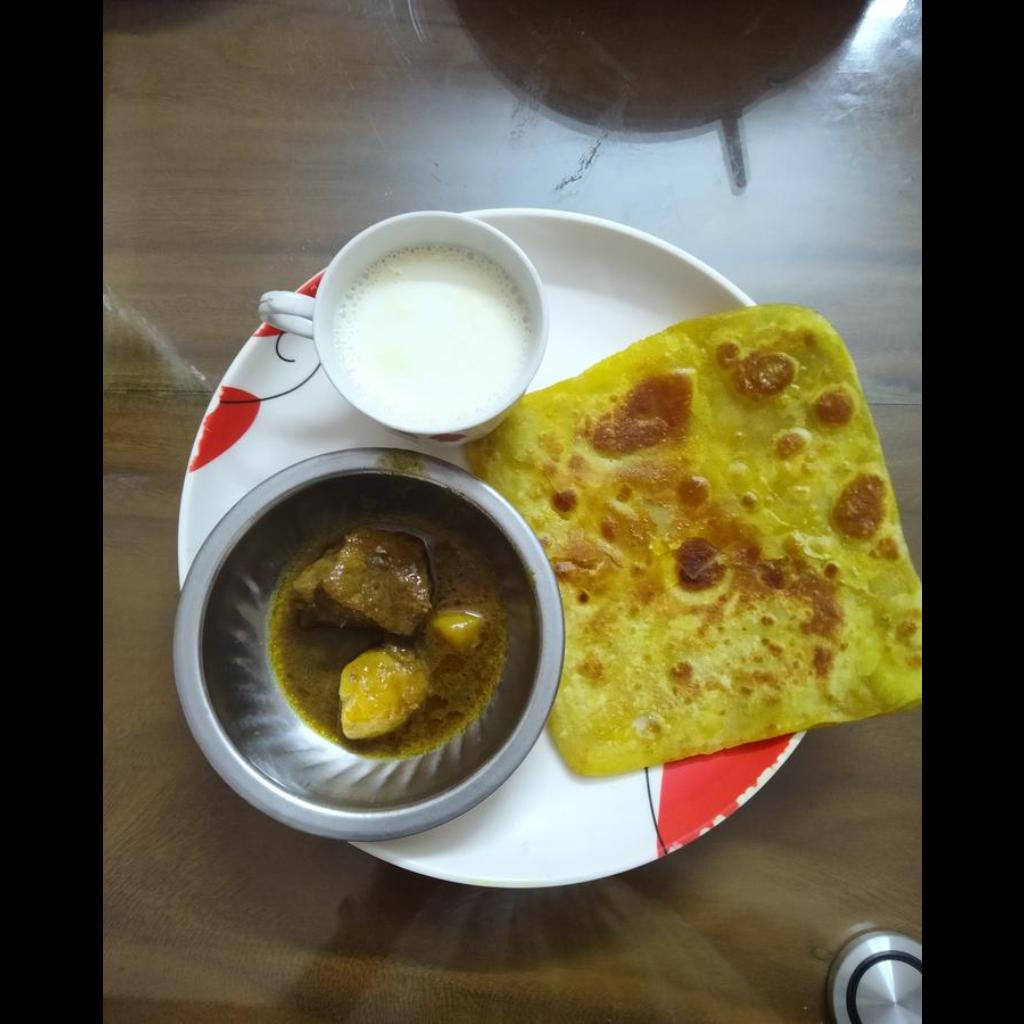beef: (293, 531, 434, 639)
milk: (333, 243, 528, 421)
potato: (339, 645, 431, 740), (423, 609, 484, 654)
ruti: (462, 297, 920, 777)
